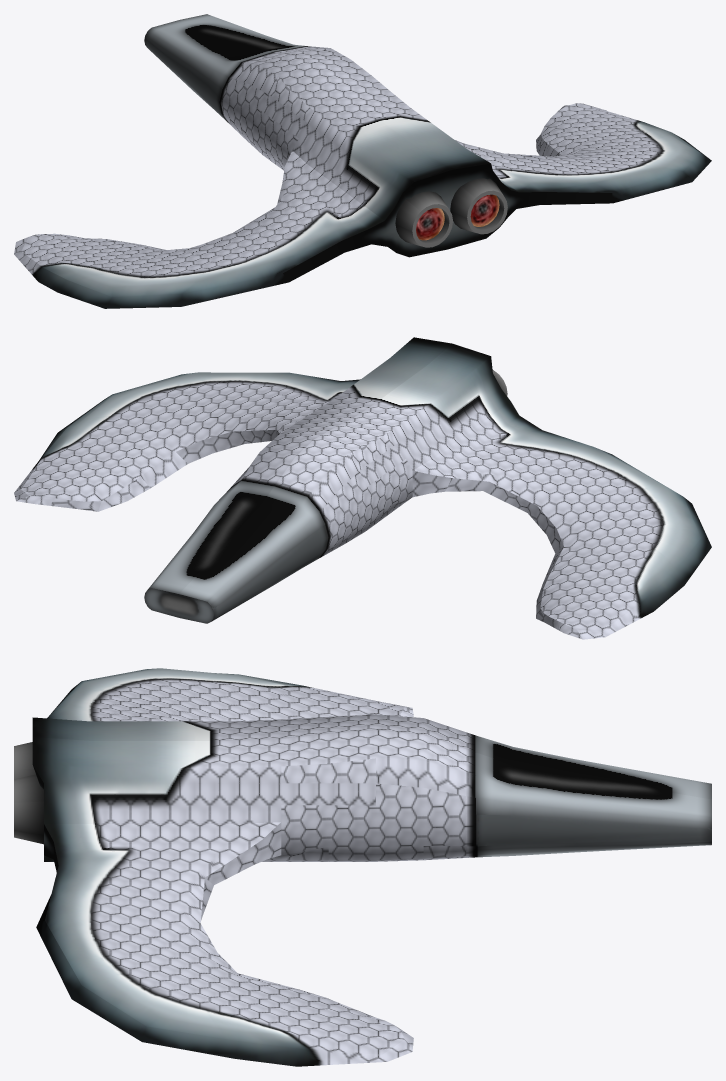
Rendered from Starfighter.fbx.
3 views of the same model, one above another, from view 1: azimuth 30°, elevation 25°; view 2: azimuth 150°, elevation 25°; view 3: azimuth 270°, elevation 25° (orthographic). The views are drawn at different scales.
Visible parts, largest first — view 1: polySurface1; view 2: polySurface1; view 3: polySurface1.
Part boxes in pixels (<box>): polySurface1: <box>14,14,711,308</box>; polySurface1: <box>14,337,711,639</box>; polySurface1: <box>14,668,711,1066</box>.
Bounding box in the file's own units: 24.3 × 4.74 × 18.85.
Materials: 1 (1 with a texture image).
